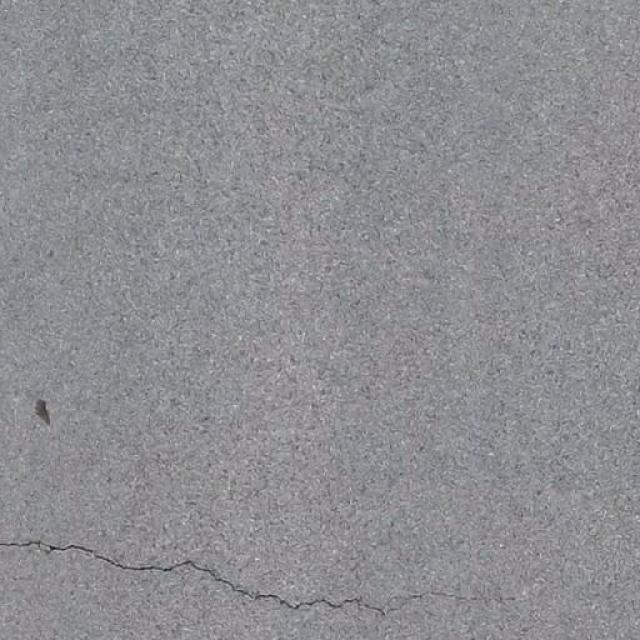Crack: (4, 531, 528, 627)
